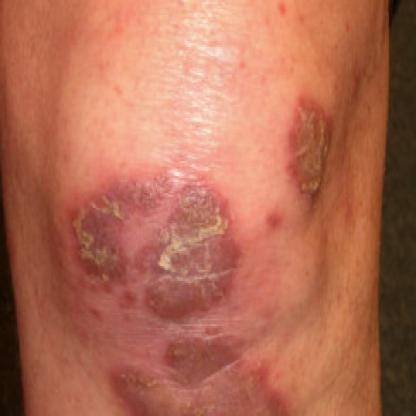Psoriasis: (58, 164, 253, 325), (277, 96, 341, 224)
